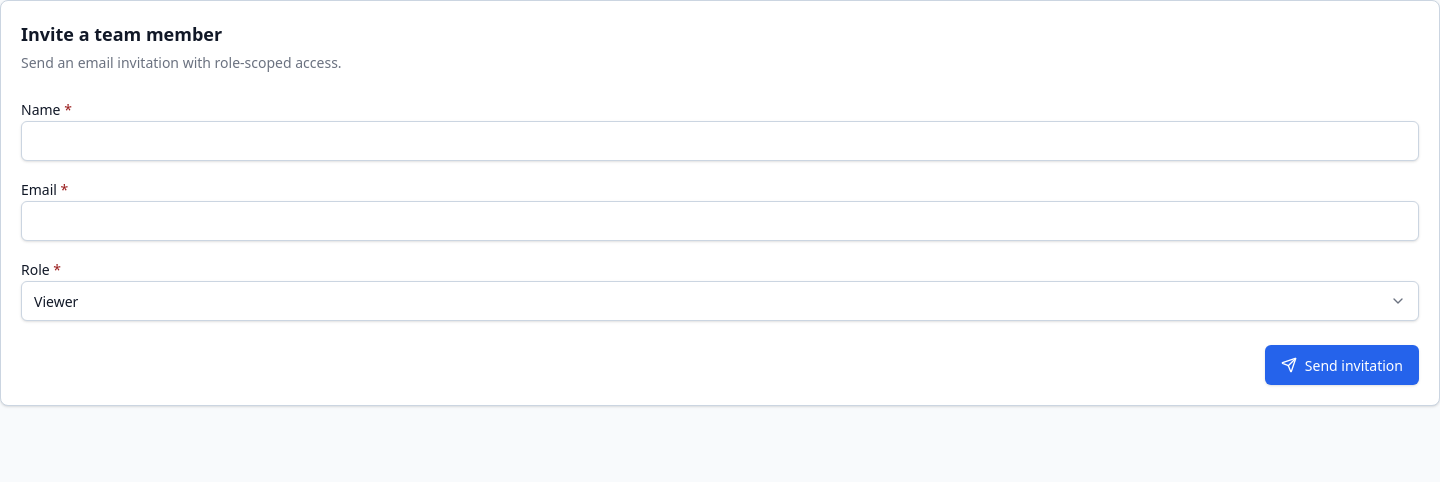
Test: InviteForm › validates required fields before submitting
What coordinates should you click on to do the following:
click the button "Send invitation"
I would click on:
 (1342, 365)
Its box is [1265,345,1419,385].
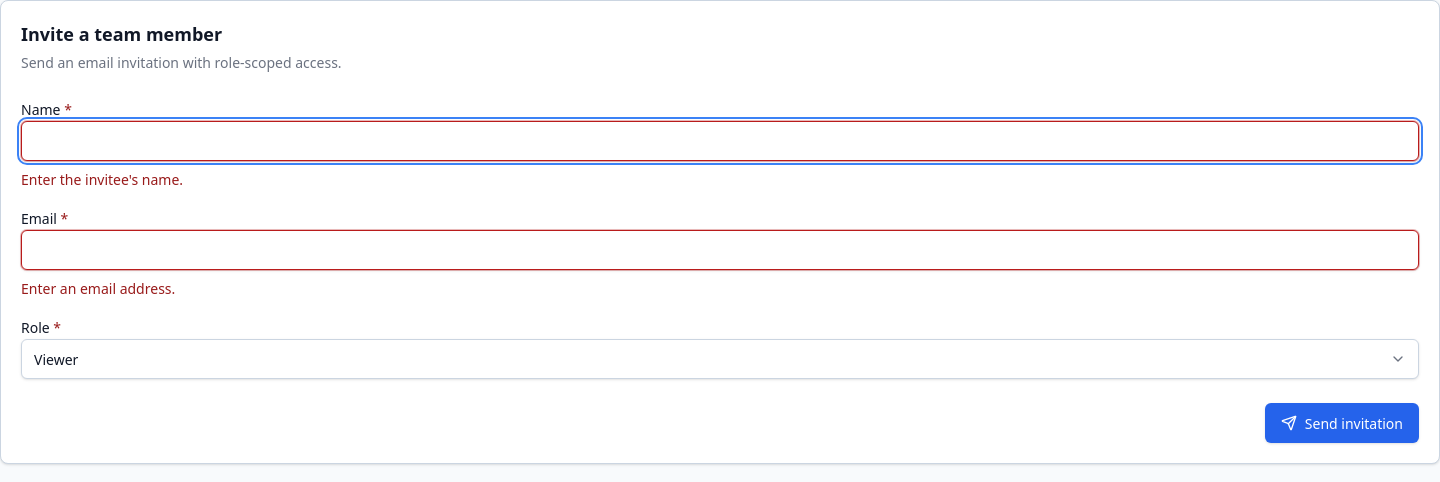
Expected: the text "Enter the invitee's name." is shown, [21,170,183,189]
Expected: the text "Enter an email address." is shown, [21,279,175,298]
